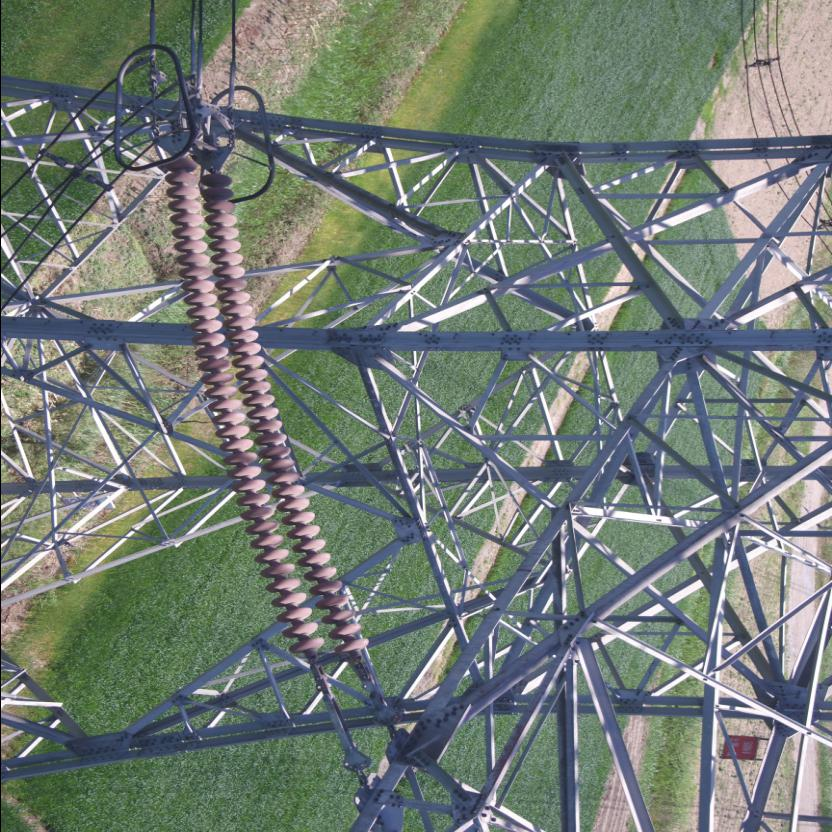insulator: (156, 144, 372, 702)
